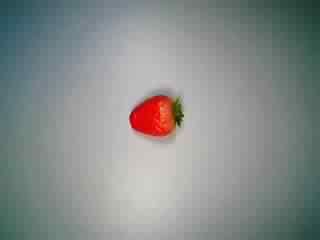strawberry: (121, 81, 189, 145)
